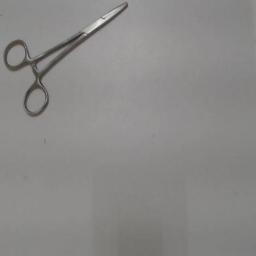Mayo Needle Holder: (1, 1, 135, 121)
